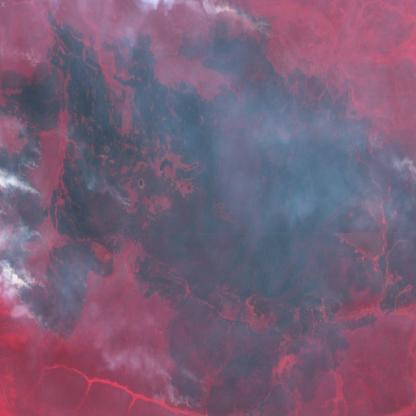fire: (0, 54, 96, 342), (170, 0, 288, 51), (156, 320, 214, 416)
